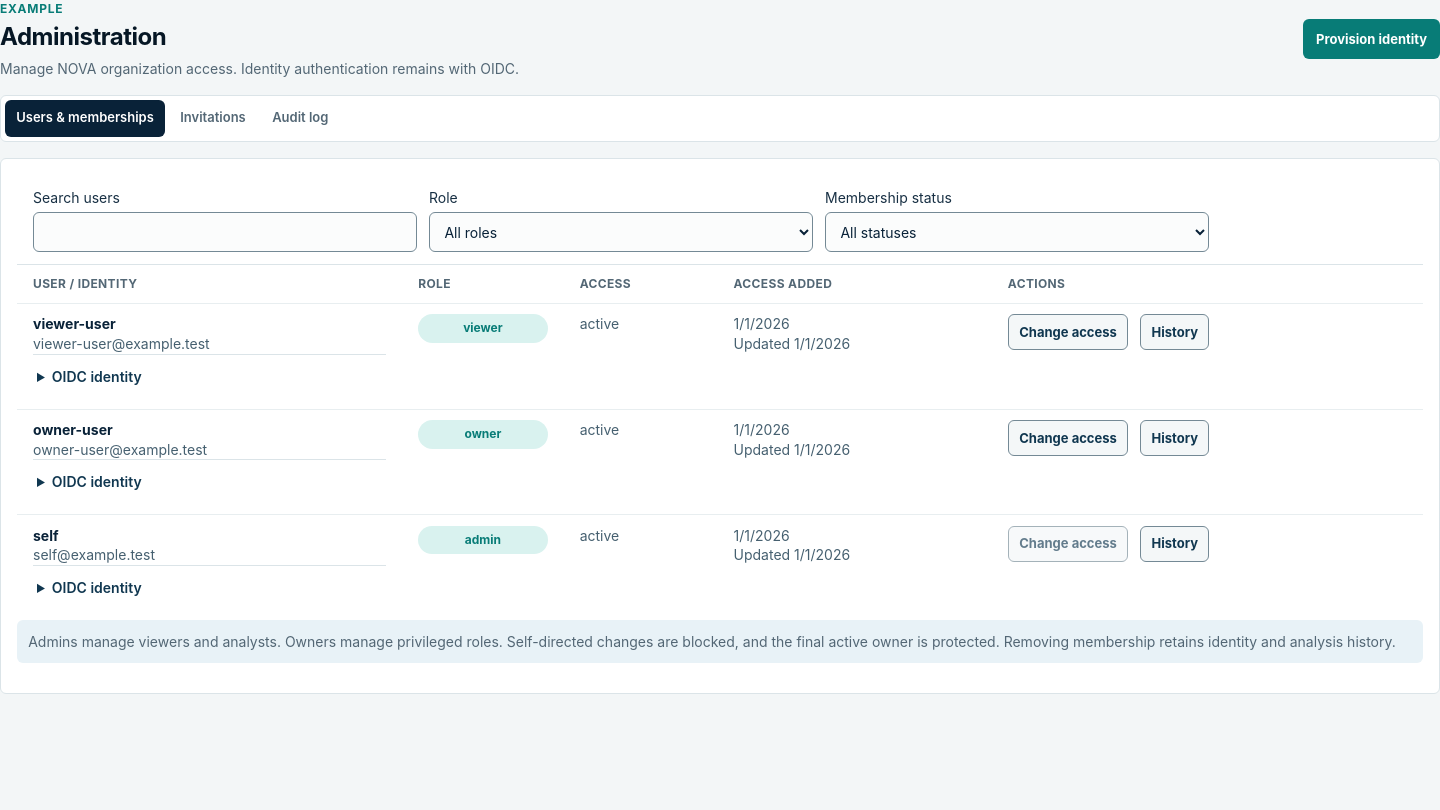
Scenario: Administration protection › offers privileged roles only to owners and keeps server errors visible
Click the button "Change access" in the row of "owner-user@example.test".
click(1068, 438)  # box [1008,420,1128,456]
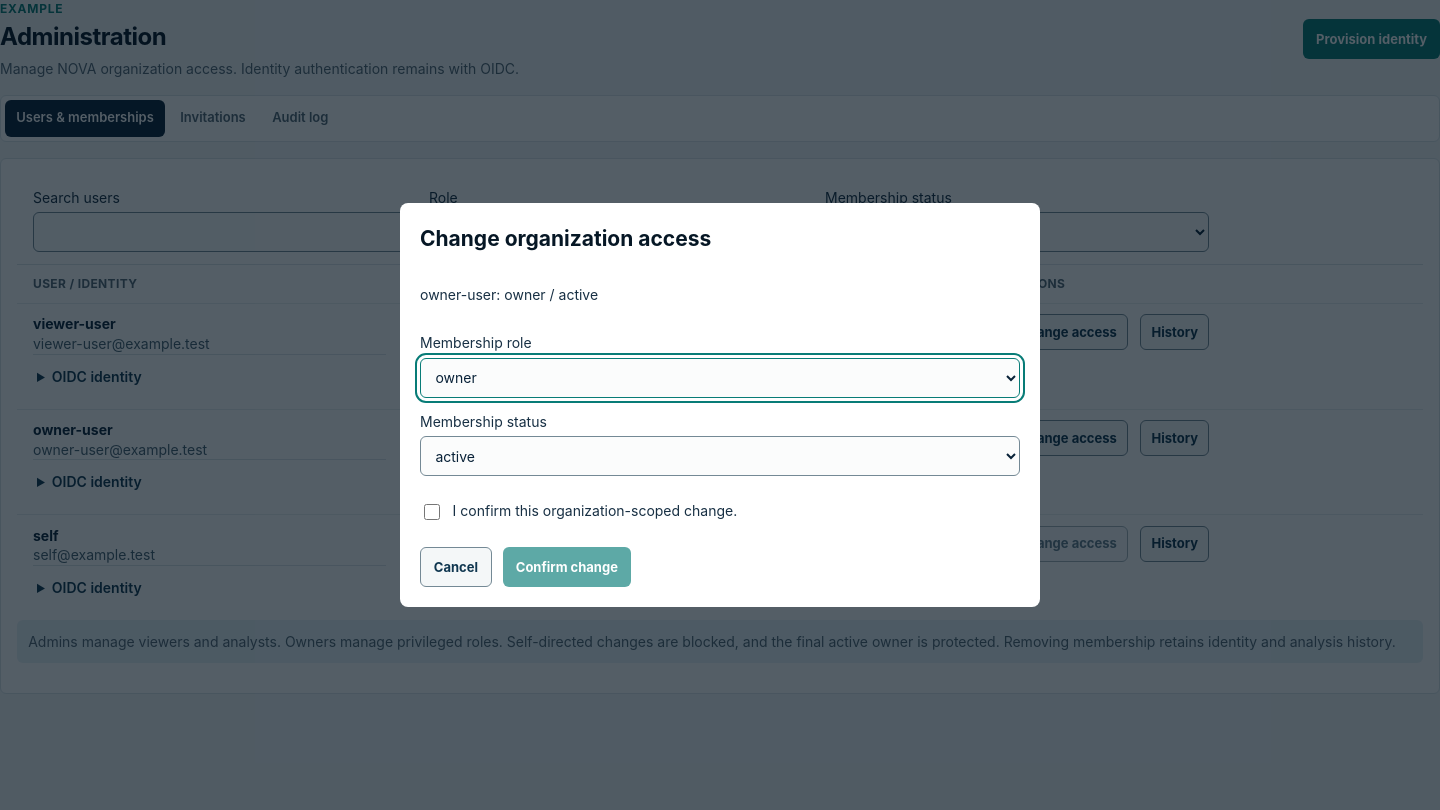
Click the checkbox labelled "I confirm this organization-scoped change.".
click(432, 512)  # box [424,504,440,520]
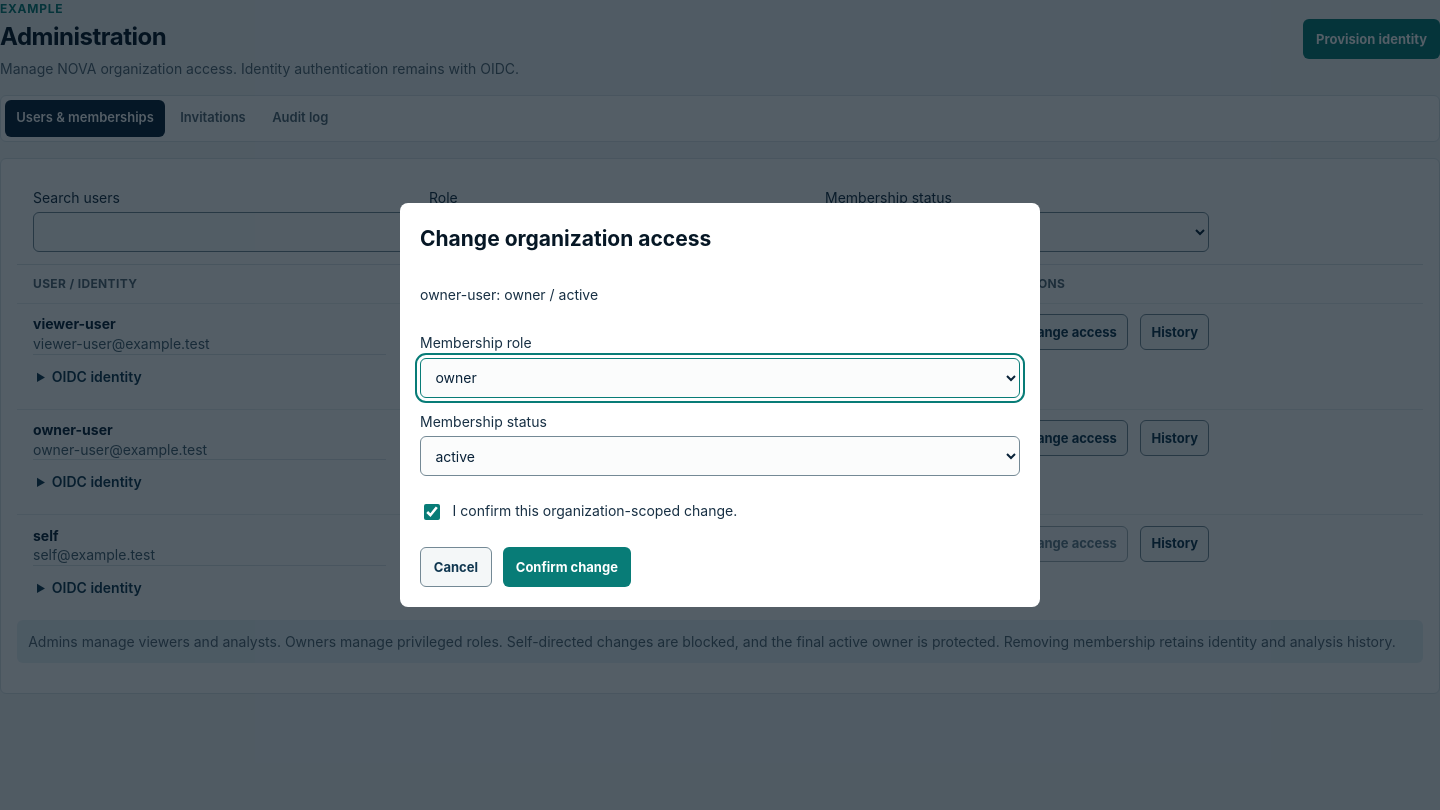
Click the button "Confirm change".
click(567, 567)  # box [503,547,631,587]
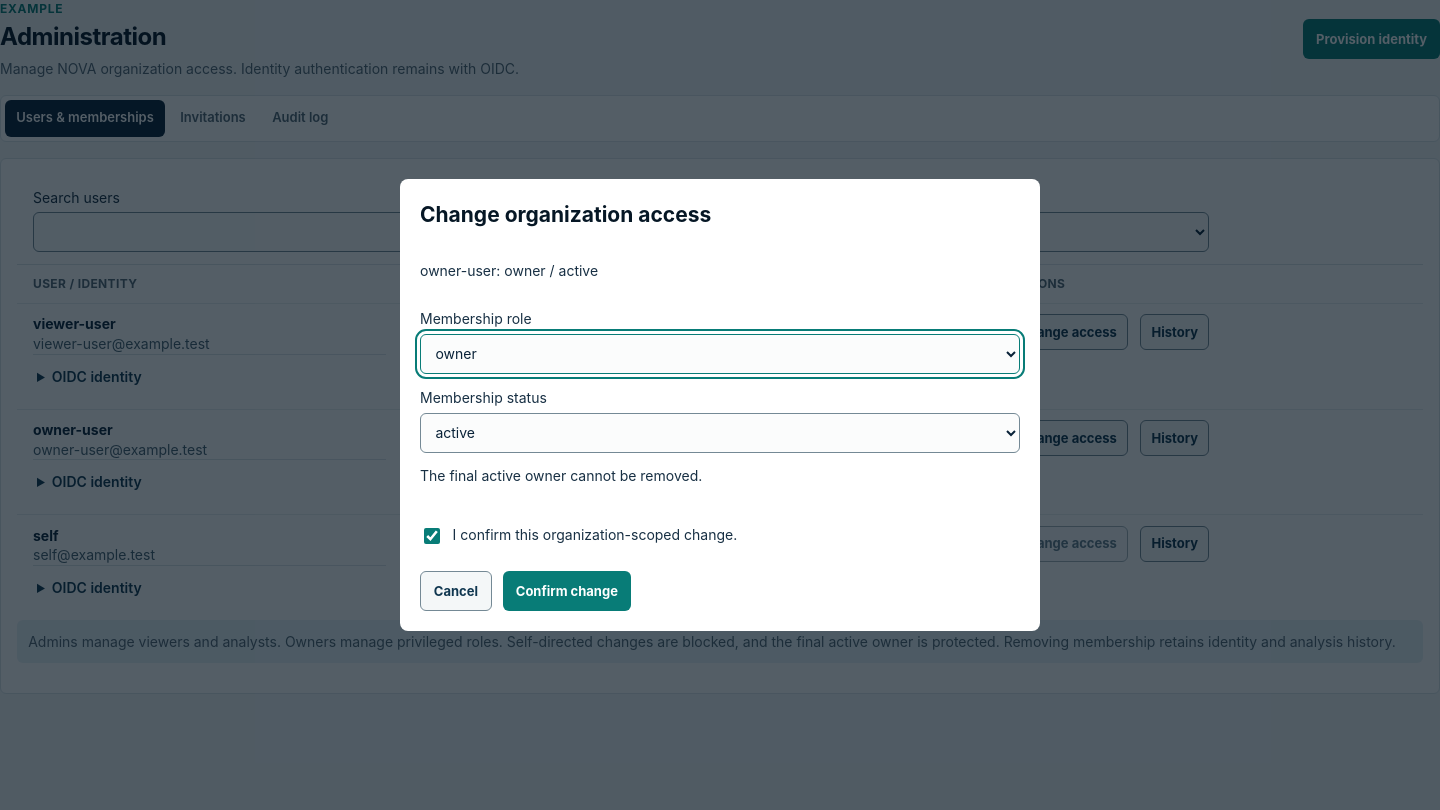
Check: the dialog is shown, box [400,179,1040,631]
Check: the message shows "final active owner", box [420,467,702,484]
